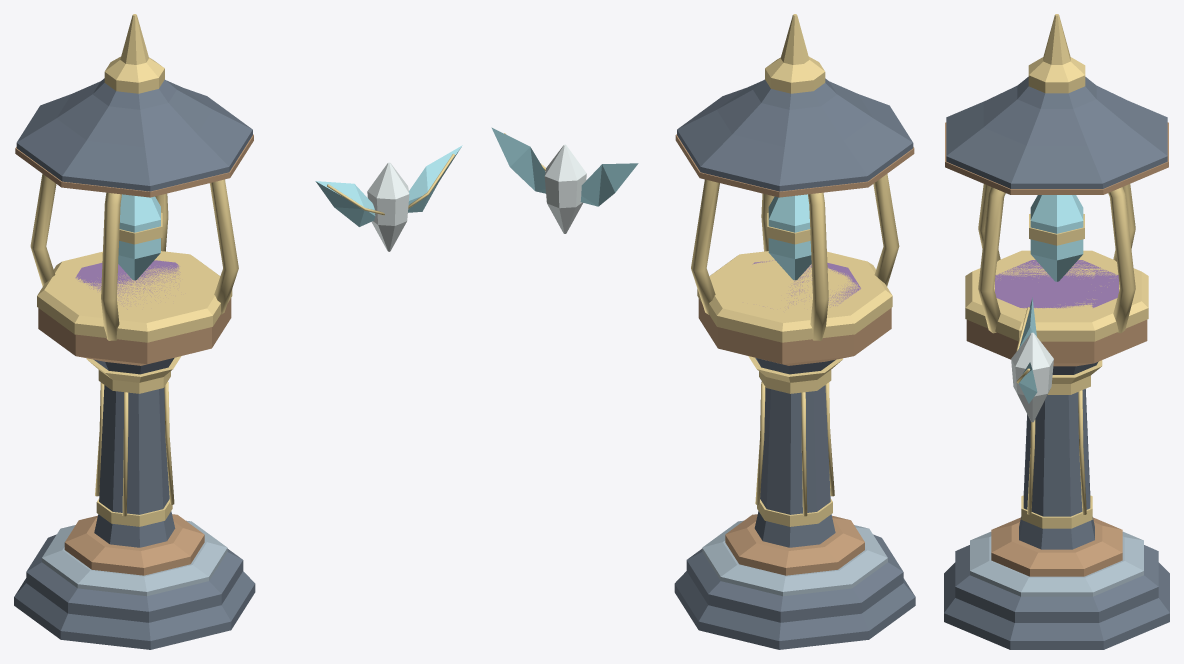
Rendered from relay.glb.
3 views of the same model, side by side, from view 1: azimuth 30°, elevation 25°; view 2: azimuth 150°, elevation 25°; view 3: azimuth 270°, elevation 25° (orthographic).
Parts seen in each view (by area): view 1: Relay part 0, Relay part 2, Relay part 1; view 2: Relay part 0, Relay part 2, Relay part 1; view 3: Relay part 0, Relay part 1, Relay part 2.
Part boxes in pixels (x1,y1,x2,y2): Relay part 0: [14, 14, 255, 649]; Relay part 2: [315, 145, 462, 251]; Relay part 1: [118, 194, 162, 280]; Relay part 0: [674, 14, 915, 649]; Relay part 2: [491, 127, 638, 233]; Relay part 1: [767, 194, 811, 280]; Relay part 0: [944, 14, 1169, 649]; Relay part 1: [1029, 195, 1084, 281]; Relay part 2: [1011, 297, 1053, 422].
Bounding box in the file's own units: 39.24 × 53 × 18.48.
